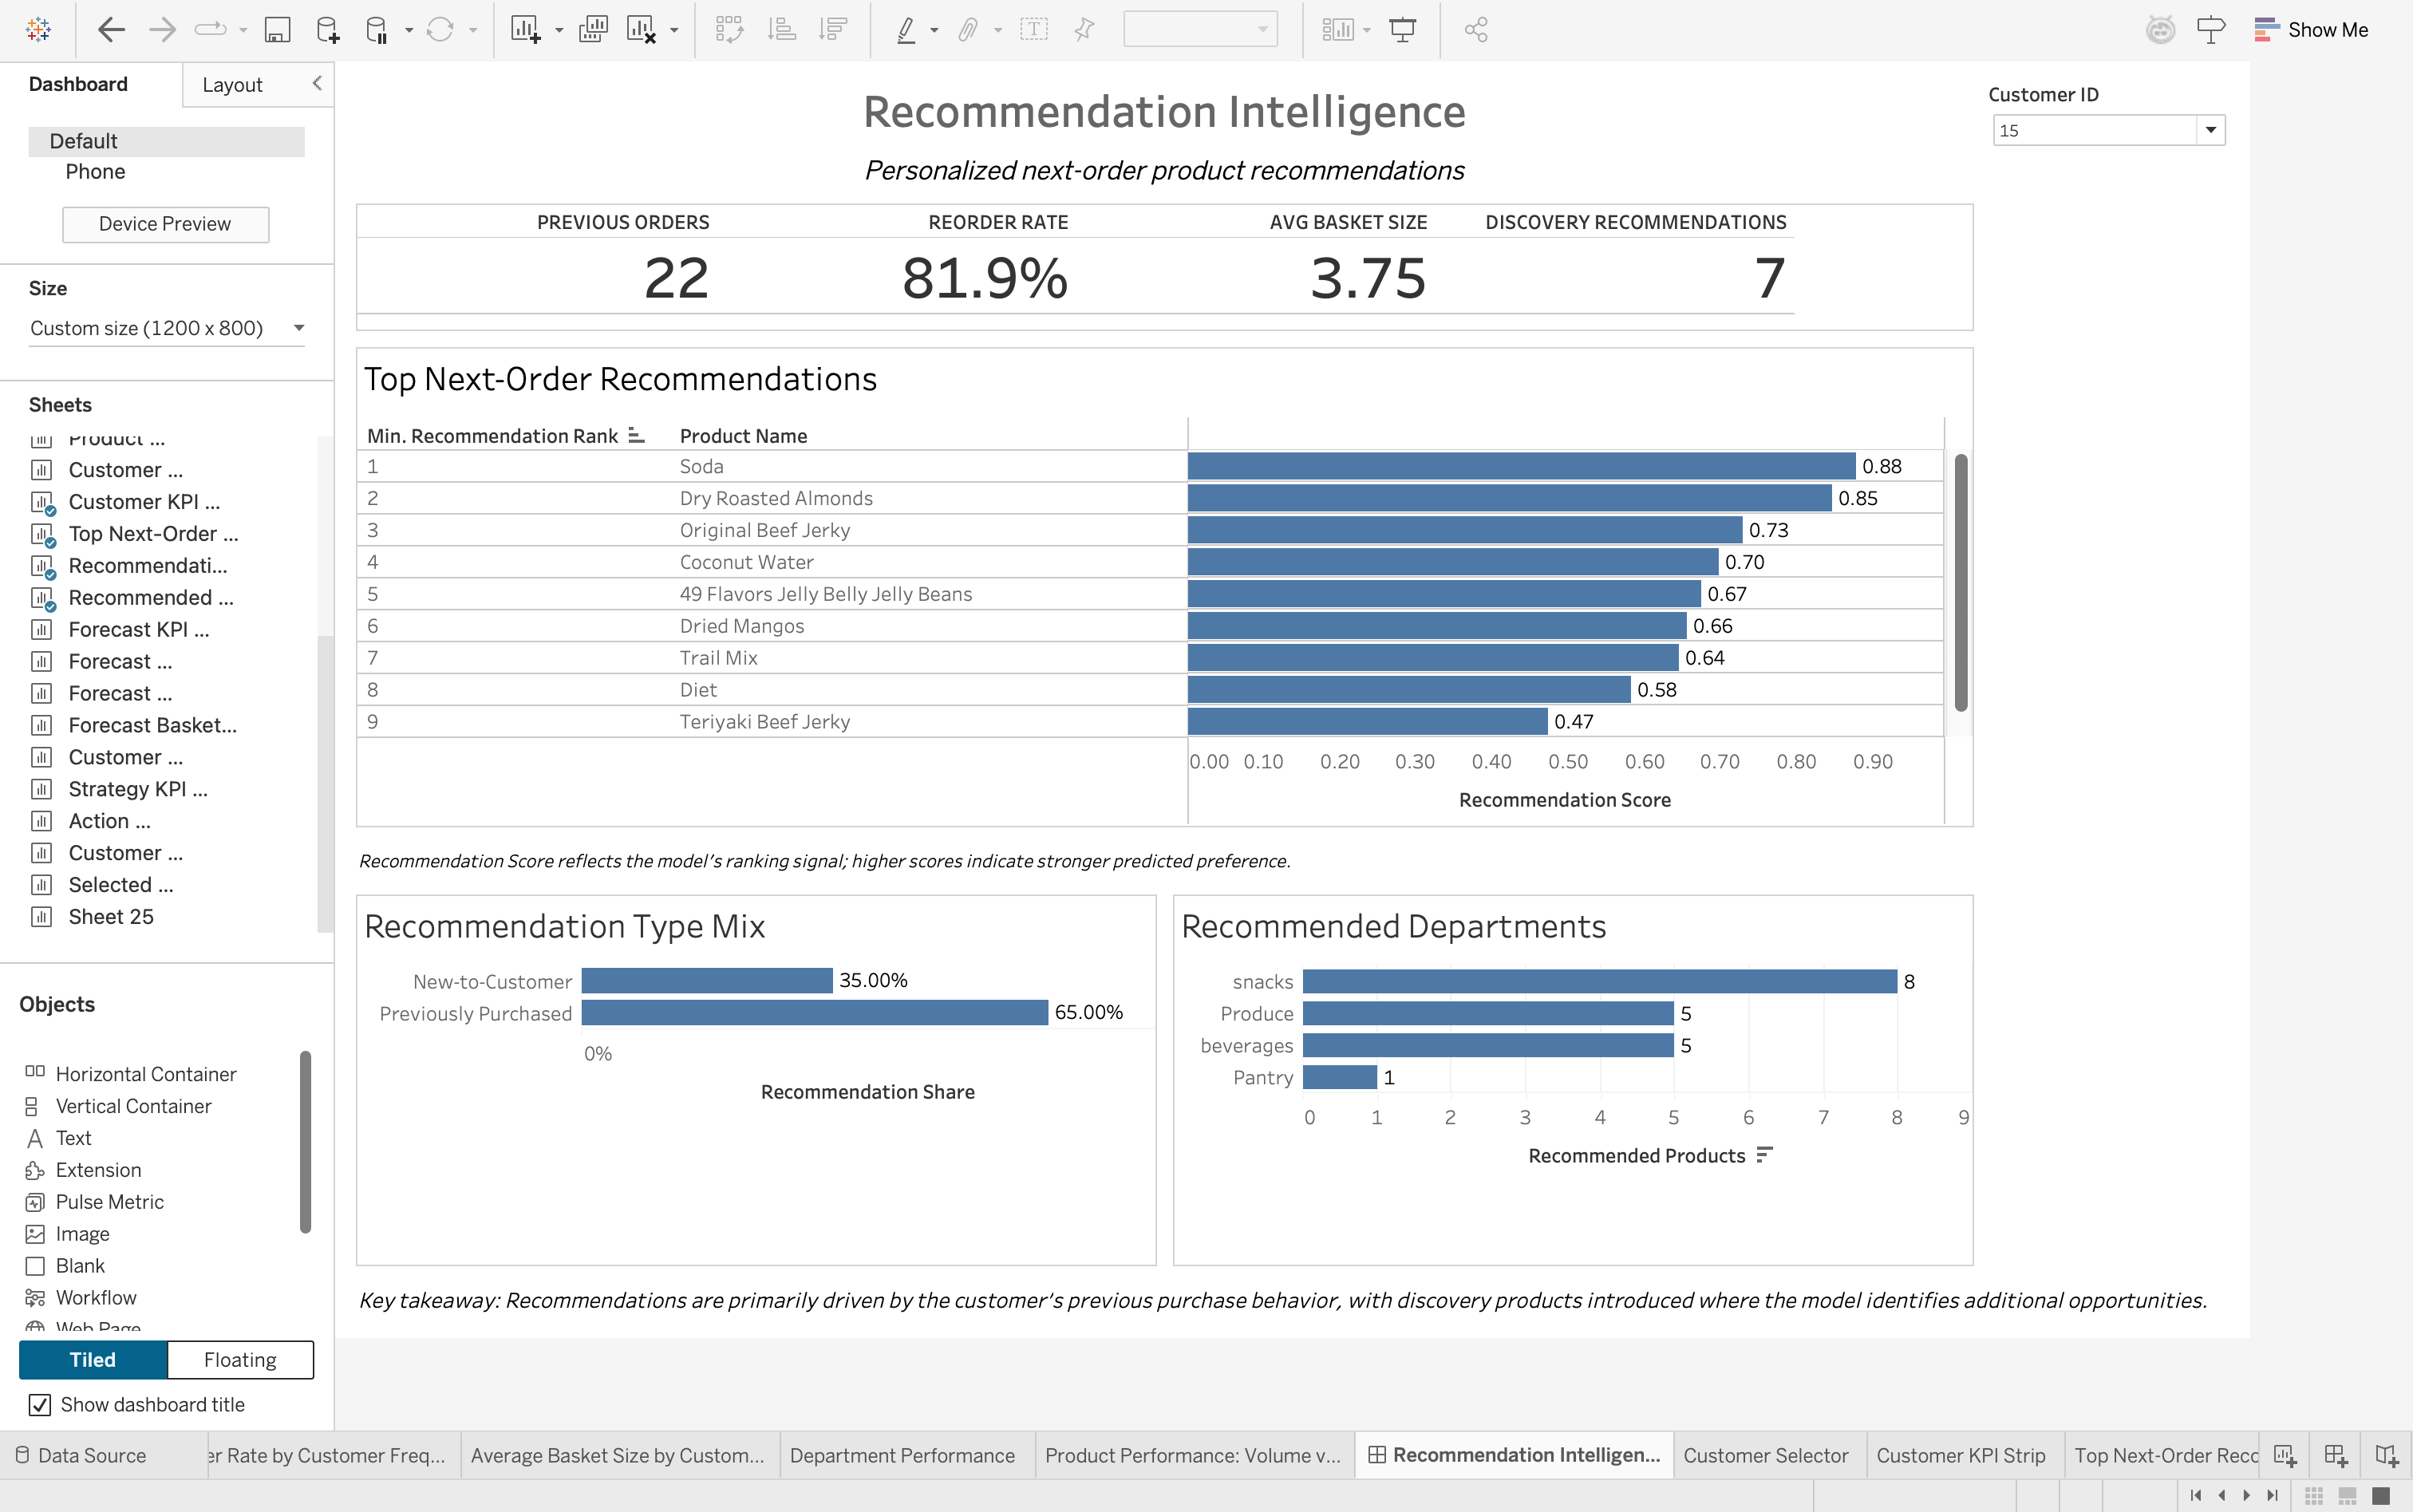

The dashboard page shown, as its layout file describes it:
{"tool":"tableau","page":{"name":"Recommendation Intelligence","canvas":[1200,800],"ordinal":2},"visuals":[{"type":"text","box":[8,8,1024,32]},{"type":"filter","title":"Recommendation Mix","param":"[federated.1cerkal1xd2p4m1122pnn040dpsw].[none:user_id:ok]","box":[1032,8,160,52]},{"type":"text","box":[8,40,1024,42]},{"type":"worksheet","title":"Customer KPI Strip","mark":"Automatic","box":[8,82,1024,92]},{"type":"worksheet","title":"Top Next-Order Recommendations","mark":"Bar","rows":["recommendation_rank","product_name"],"cols":["recommendation_score"],"box":[8,174,1024,311]},{"type":"text","box":[8,485,1024,32.3]},{"type":"worksheet","title":"Recommendation Mix","mark":"Bar","rows":["recommendation_type"],"cols":["product_id"],"box":[8,517.3,512,242.7]},{"type":"worksheet","title":"Recommended Departments","mark":"Bar","rows":["department"],"cols":["product_id"],"box":[520,517.3,512,242.7]},{"type":"text","box":[8,760,1184,32]}]}

Visuals, with their boxes on the page's 1200x800 design canvas (x1, y1, x2, y2). These are canvas units, not pixel positions in the 2413x1512 screenshot, which may show the page scaled, cropped or inside an application window:
text: locate(8, 8, 1032, 40)
"Recommendation Mix" filter: locate(1032, 8, 1192, 60)
text: locate(8, 40, 1032, 82)
"Customer KPI Strip" worksheet: locate(8, 82, 1032, 174)
"Top Next-Order Recommendations" worksheet (Bar marks): locate(8, 174, 1032, 485)
text: locate(8, 485, 1032, 517)
"Recommendation Mix" worksheet (Bar marks): locate(8, 517, 520, 760)
"Recommended Departments" worksheet (Bar marks): locate(520, 517, 1032, 760)
text: locate(8, 760, 1192, 792)
